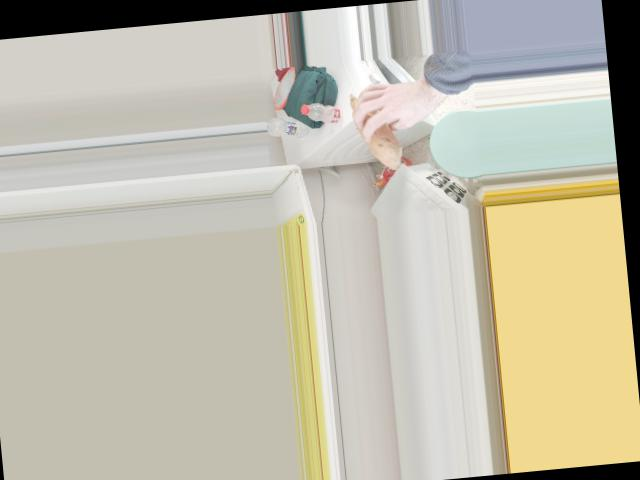sweet_potato: (348, 85, 402, 170)
